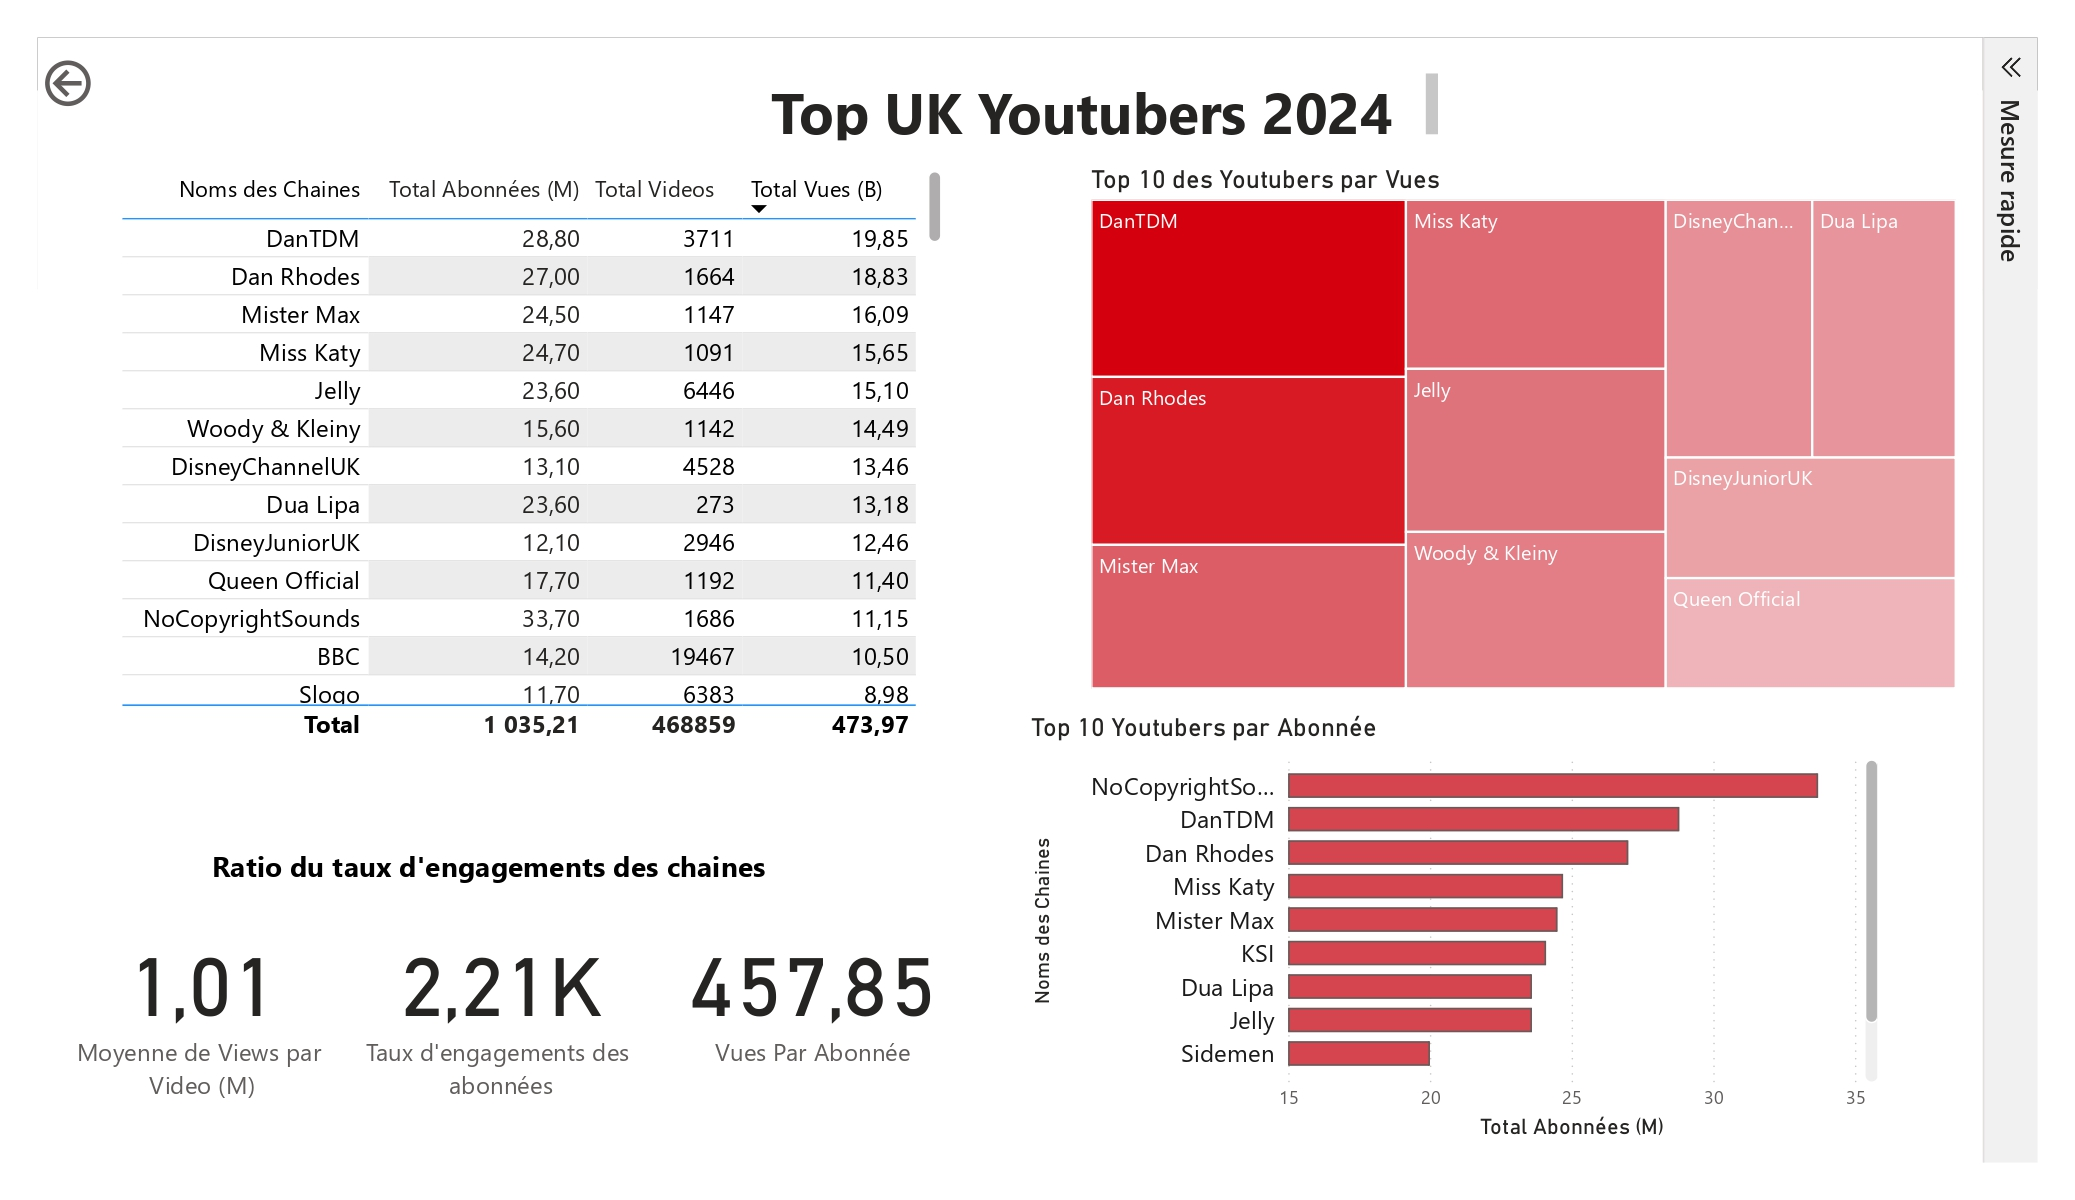

The dashboard page shown, as its layout file describes it:
{"tool":"powerbi","page":{"name":"Page 1","canvas":[1280,720],"ordinal":0},"visuals":[{"type":"textbox","box":[478.1,8.6,448.8,53.8],"z":0},{"type":"tableEx","fields":{"Values":["view_uk_youtubers_uk2024.Chanel_name","view_uk_youtubers_uk2024.Total Abonnée (M)","view_uk_youtubers_uk2024.Total Videos","view_uk_youtubers_uk2024.Total Vues (B)"]},"box":[49.9,72.7,550.2,386.3],"z":1000},{"type":"treemap","title":"Top 10 des Youtubers par Vues","fields":{"Group":["view_uk_youtubers_uk2024.Chanel_name"],"Values":["view_uk_youtubers_uk2024.Total Vues (B)"]},"box":[688.5,72.7,578.7,350.6],"z":2000},{"type":"actionButton","box":[0,0,100,40],"z":3000},{"type":"card","fields":{"Values":["view_uk_youtubers_uk2024.Moyenne de Views par Video (M)"]},"box":[0,517.4,216.7,202.4],"z":4000},{"type":"card","fields":{"Values":["view_uk_youtubers_uk2024.Taux d'engagements des abonnées"]},"box":[196.7,517.4,216.7,202.4],"z":5000},{"type":"card","fields":{"Values":["view_uk_youtubers_uk2024.Vues Par Abonnée"]},"box":[402,517.4,216.7,202.4],"z":6000},{"type":"clusteredBarChart","title":"Top 10 Youtubers par Abonnée","fields":{"Category":["view_uk_youtubers_uk2024.Chanel_name"],"Y":["view_uk_youtubers_uk2024.Total Abonnée (M)"]},"box":[648.6,433.3,567.3,286.5],"z":7000},{"type":"textbox","box":[109.8,517.4,410.5,52.7],"z":8000}]}

Visuals, with their boxes on the page's 1280x720 design canvas (x1, y1, x2, y2). These are canvas units, not pixel positions in the 2075x1200 screenshot, which may show the page scaled, cropped or inside an application window:
textbox: 478, 9, 927, 62
tableEx - view_uk_youtubers_uk2024.Chanel_name x view_uk_youtubers_uk2024.Total Abonnée (M): 50, 73, 600, 459
"Top 10 des Youtubers par Vues" treemap: 688, 73, 1267, 423
actionButton: 0, 0, 100, 40
card - view_uk_youtubers_uk2024.Moyenne de Views par Video (M): 0, 517, 217, 720
card - view_uk_youtubers_uk2024.Taux d'engagements des abonnées: 197, 517, 413, 720
card - view_uk_youtubers_uk2024.Vues Par Abonnée: 402, 517, 619, 720
"Top 10 Youtubers par Abonnée" clusteredBarChart: 649, 433, 1216, 720
textbox: 110, 517, 520, 570
